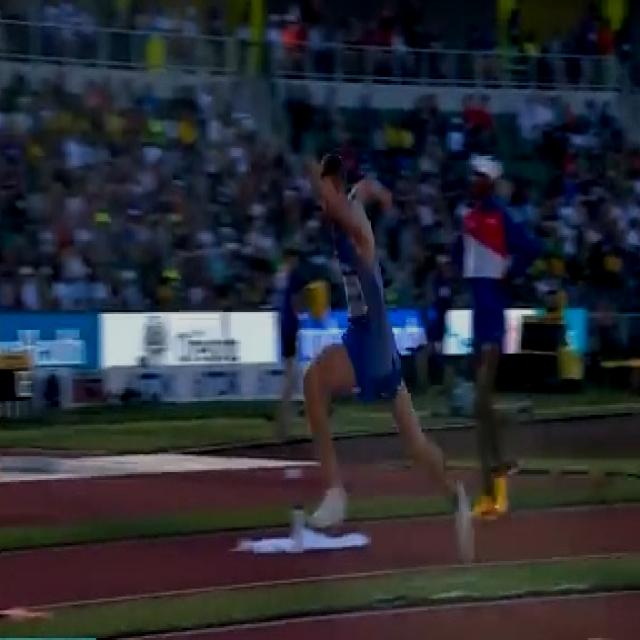run: (303, 132, 474, 557)
